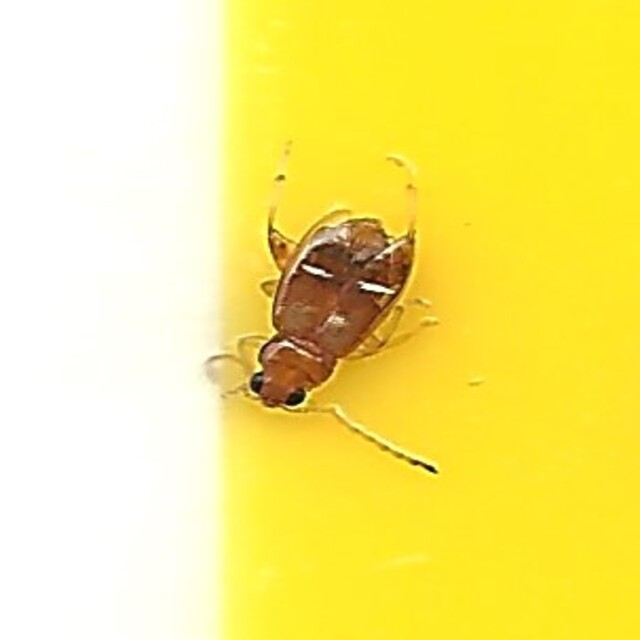Coleoptera: (211, 175, 429, 465)
